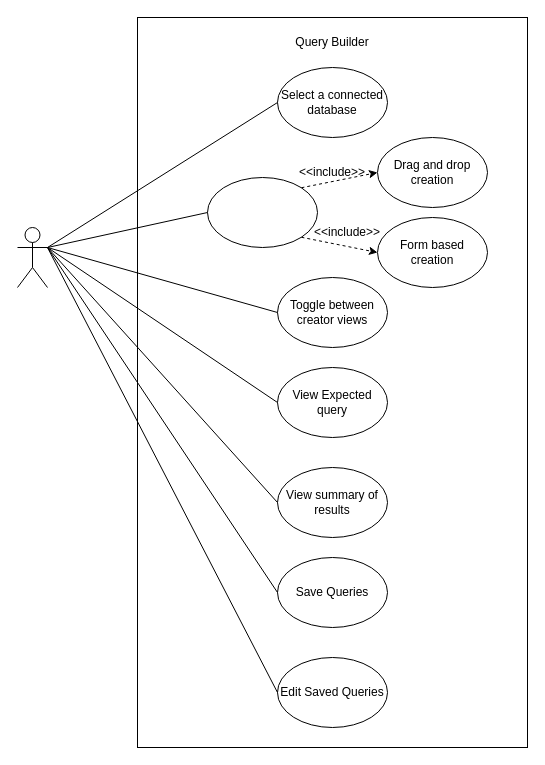
Image size: 545x765. Some labels were removed from this diagram. Here are the shapes that lost their labels. From the top down, the centre of each, then its label:
At [262,212]: "Create a query".
At [32,257]: "User".
